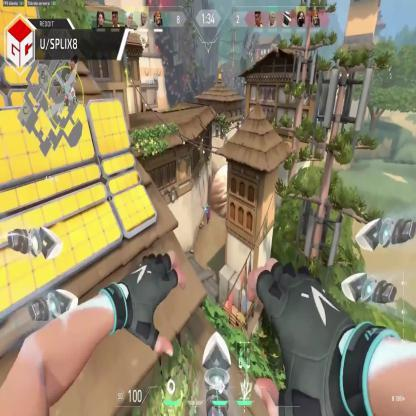enemy: (204, 202, 210, 225)
enemy_head: (206, 203, 209, 209)
